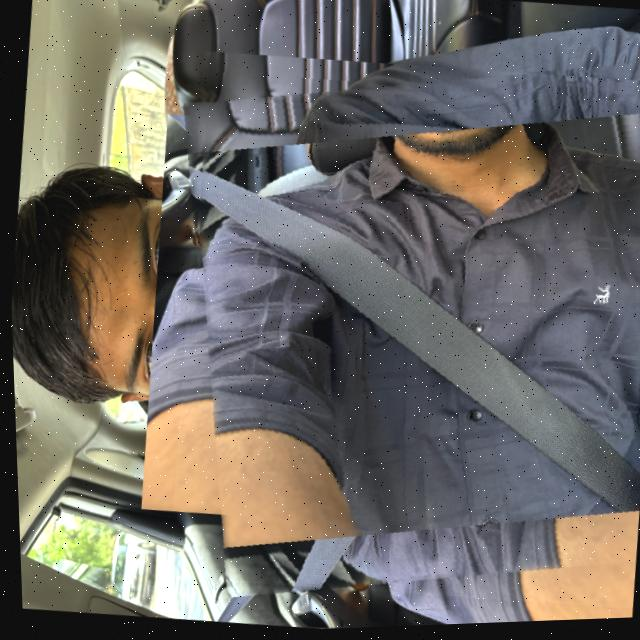seatbelt: (148, 38, 640, 626)
